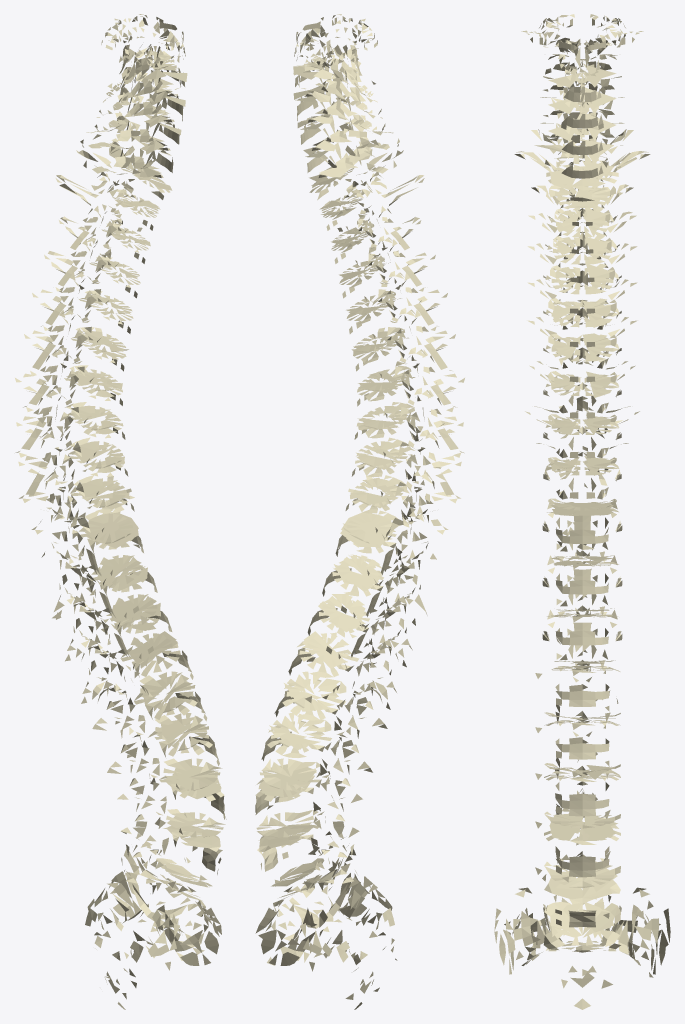
File: bone_spine.glb
3 renders of one model, left to right at view 1: azimuth 30°, elevation 25°; view 2: azimuth 150°, elevation 25°; view 3: azimuth 270°, elevation 25°, orthographic. The views are drawn at different scales.
Parts seen in each view (by area): view 1: Object_55, Object_19, Object_16, Object_4, Object_13, Object_25, Object_10, Object_43, Object_52, Object_40, Object_58, Object_49 (+16 smaller); view 2: Object_19, Object_55, Object_4, Object_13, Object_25, Object_16, Object_43, Object_52, Object_58, Object_46, Object_40, Object_49 (+16 smaller); view 3: Object_19, Object_55, Object_10, Object_70, Object_16, Object_25, Object_7, Object_34, Object_52, Object_58, Object_31, Object_61 (+16 smaller).
Part boxes in pixels (left/top/right/bottom): Object_55: left=74, top=200, right=177, bottom=664; Object_19: left=85, top=844, right=221, bottom=1009; Object_16: left=142, top=672, right=220, bottom=900; Object_4: left=92, top=637, right=195, bottom=734; Object_13: left=107, top=679, right=208, bottom=777; Object_25: left=117, top=722, right=222, bottom=815; Object_10: left=126, top=825, right=222, bottom=890; Object_43: left=16, top=411, right=125, bottom=502; Object_52: left=79, top=599, right=172, bottom=703; Object_40: left=15, top=373, right=122, bottom=457; Object_58: left=64, top=559, right=157, bottom=661; Object_49: left=28, top=483, right=134, bottom=558; Object_19: left=255, top=844, right=397, bottom=1009; Object_55: left=302, top=202, right=405, bottom=668; Object_4: left=285, top=637, right=387, bottom=735; Object_13: left=271, top=679, right=372, bottom=777; Object_25: left=259, top=721, right=362, bottom=815; Object_16: left=257, top=683, right=330, bottom=897; Object_43: left=354, top=409, right=463, bottom=503; Object_52: left=307, top=599, right=400, bottom=709; Object_58: left=322, top=561, right=415, bottom=667; Object_46: left=348, top=448, right=461, bottom=534; Object_40: left=357, top=373, right=464, bottom=457; Object_49: left=343, top=482, right=451, bottom=559; Object_19: left=494, top=887, right=670, bottom=1009; Object_55: left=550, top=210, right=613, bottom=667; Object_10: left=535, top=858, right=620, bottom=937; Object_70: left=548, top=64, right=616, bottom=211; Object_16: left=549, top=717, right=617, bottom=940; Object_25: left=535, top=768, right=620, bottom=828; Object_7: left=535, top=815, right=620, bottom=888; Object_34: left=527, top=243, right=637, bottom=321; Object_52: left=542, top=610, right=622, bottom=671; Object_58: left=542, top=555, right=622, bottom=616; Object_31: left=528, top=211, right=636, bottom=289; Object_61: left=542, top=500, right=622, bottom=564.
Bounding box in the file's own units: 5.64 × 25.91 × 4.14.
Materials: 1 (1 with a texture image).
